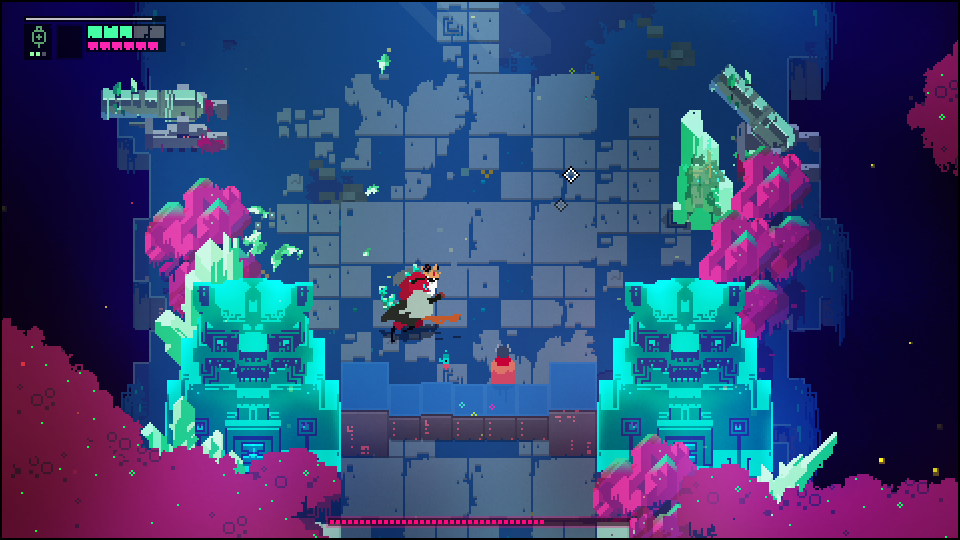hanged_man: (377, 261, 463, 346)
player: (491, 341, 519, 391)
